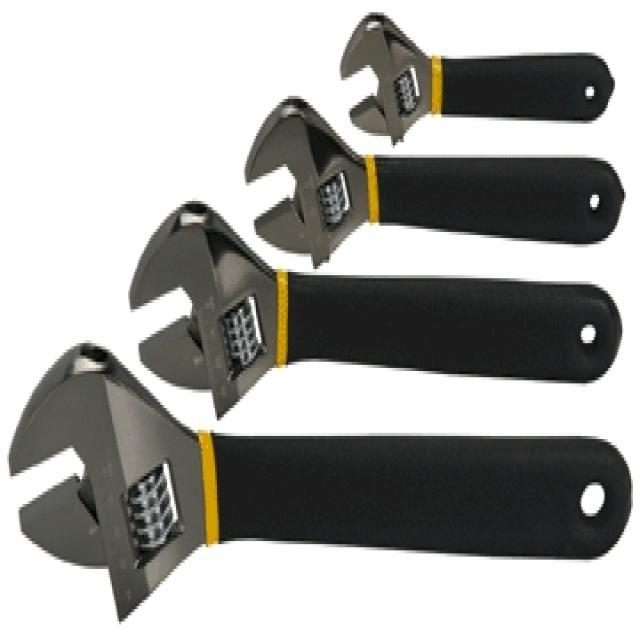wrench: (0, 338, 640, 640), (107, 176, 640, 412), (234, 94, 640, 271), (334, 0, 640, 146)
